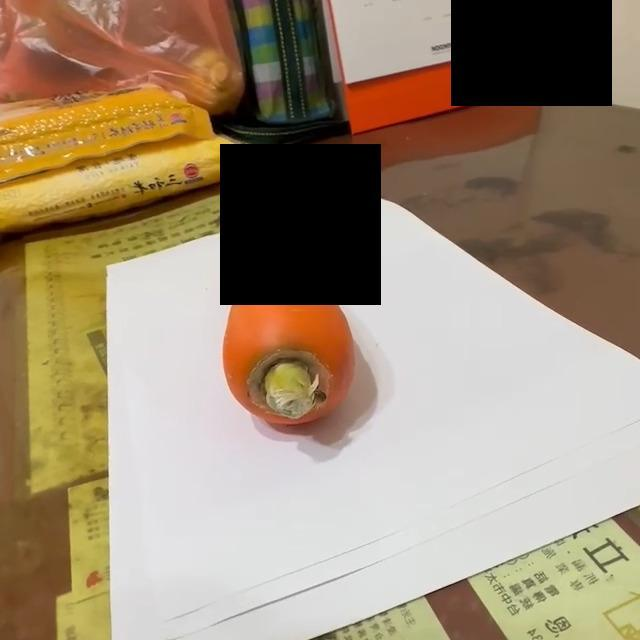carrot: (224, 219, 360, 430)
